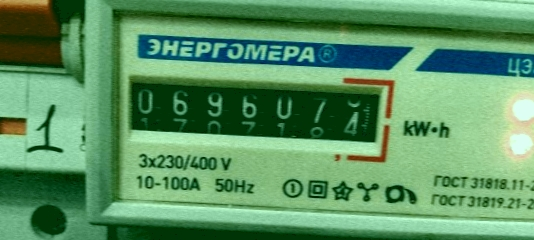0: (274, 88, 295, 119), (135, 84, 155, 113)
4: (342, 107, 360, 136)
6: (239, 88, 260, 118), (170, 85, 191, 114)
7: (310, 92, 329, 123)
9: (205, 87, 224, 116)
screen: (112, 56, 401, 160)
